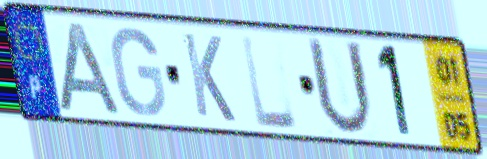1: (371, 41, 415, 144)
A: (56, 19, 126, 119)
G: (108, 24, 169, 120)
K: (179, 28, 239, 126)
L: (238, 32, 301, 132)
U: (304, 33, 376, 140)
